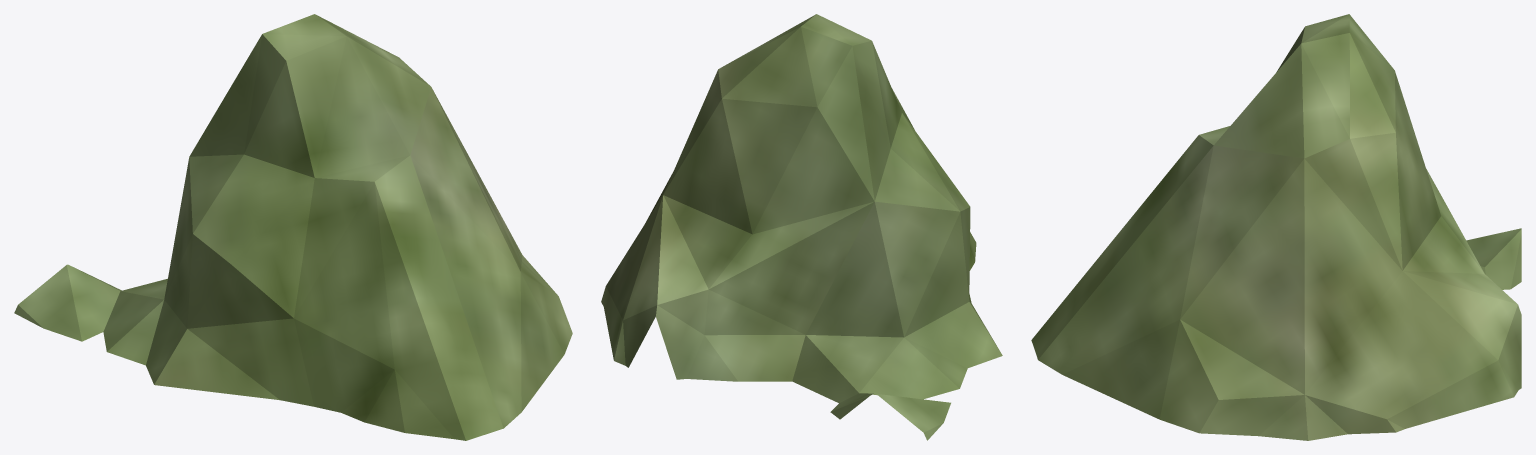
3 renders of one model, left to right at view 1: azimuth 30°, elevation 25°; view 2: azimuth 150°, elevation 25°; view 3: azimuth 270°, elevation 25°, orthographic. The views are drawn at different scales.
Size of the model in its own units: 0.8244 by 0.5889 by 0.8421.
1 material, 1 textured.
